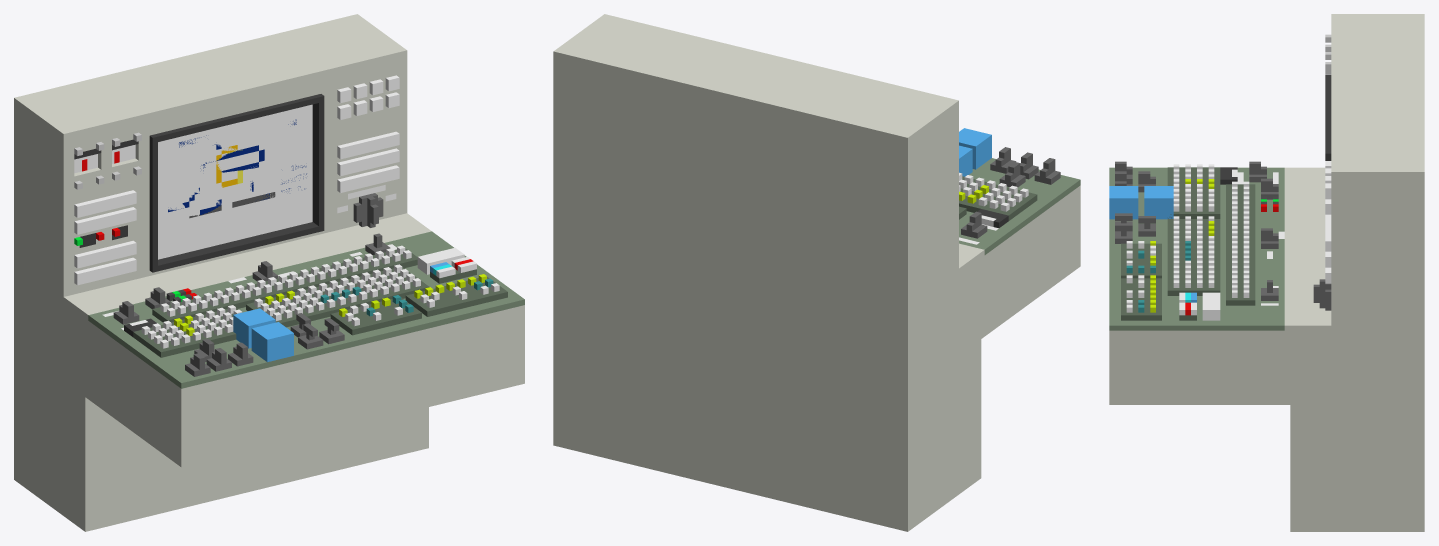
Rendered from Control Panel5-2.fbx.
The picture shows the model from 3 angles, left to right: view 1: azimuth 30°, elevation 25°; view 2: azimuth 150°, elevation 25°; view 3: azimuth 270°, elevation 25°; orthographic projection. The views are drawn at different scales.
Parts seen in each view (by area): view 1: Control Panel5-2.002, Control Panel5-2.003, Control Panel5-2.001, Control Panel5-2.008, Control Panel5-2.007, Control Panel5-2.010, Control Panel5-2.011; view 2: Control Panel5-2.003, Control Panel5-2.001, Control Panel5-2.009, Control Panel5-2.002, Control Panel5-2.010; view 3: Control Panel5-2.002, Control Panel5-2.003, Control Panel5-2.001, Control Panel5-2.011, Control Panel5-2.010.
Part boxes in pixels (x1,y1,x2,y2): Control Panel5-2.002: (57, 213, 524, 467); Control Panel5-2.003: (14, 14, 407, 329); Control Panel5-2.001: (14, 304, 428, 531); Control Panel5-2.008: (158, 104, 312, 256); Control Panel5-2.007: (158, 105, 312, 259); Control Panel5-2.010: (251, 322, 293, 362); Control Panel5-2.011: (233, 308, 275, 348); Control Panel5-2.003: (553, 14, 958, 357); Control Panel5-2.001: (553, 271, 982, 531); Control Panel5-2.009: (647, 103, 813, 271); Control Panel5-2.002: (956, 147, 1080, 338); Control Panel5-2.010: (959, 128, 991, 169); Control Panel5-2.002: (1109, 161, 1342, 404); Control Panel5-2.003: (1313, 14, 1424, 373); Control Panel5-2.001: (1278, 330, 1424, 531); Control Panel5-2.011: (1144, 186, 1173, 219); Control Panel5-2.010: (1109, 186, 1138, 219).
Size of the model in its own units: 6.4 by 6.8 by 5.4.
